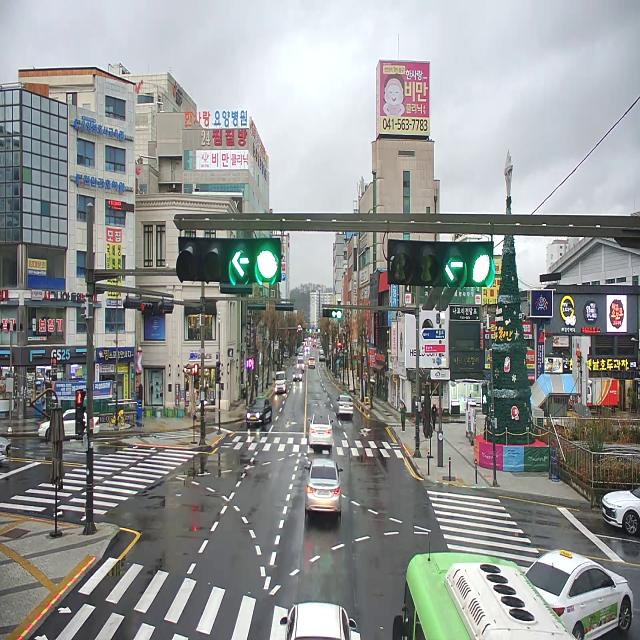Bus: (392, 552, 578, 640)
Car: (524, 549, 633, 640), (280, 602, 356, 640), (305, 458, 343, 512), (38, 408, 100, 439), (602, 484, 640, 534), (308, 414, 333, 444), (246, 396, 272, 423), (336, 392, 353, 413), (273, 371, 287, 391), (0, 436, 10, 460), (293, 371, 302, 382), (308, 357, 316, 368), (298, 359, 304, 372), (297, 353, 304, 359), (319, 353, 325, 360), (295, 348, 302, 354), (306, 345, 310, 351)
